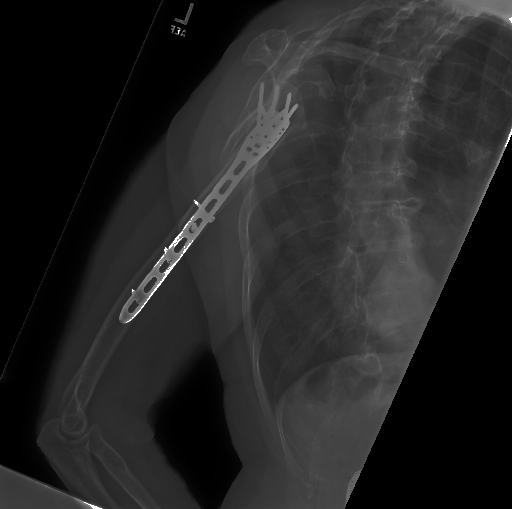implant: (119, 184, 223, 328), (240, 81, 300, 172)
